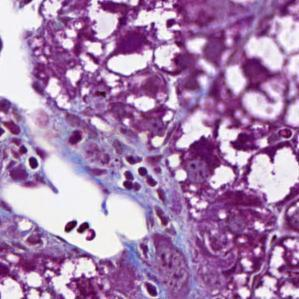inflammation: (110, 155, 166, 198)
